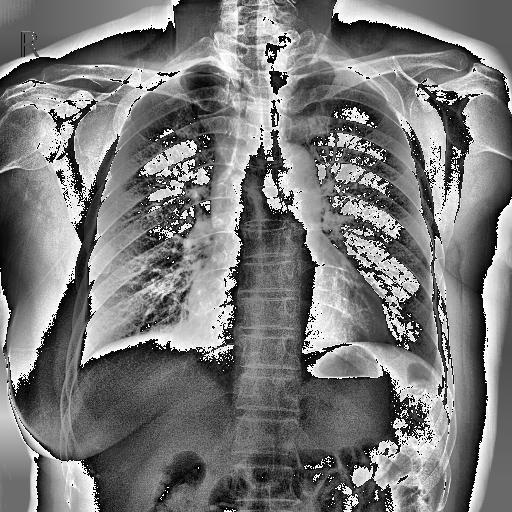0- Aortic enlargement: (211, 148, 320, 234), (257, 139, 322, 224), (270, 144, 322, 210)
11- Pleural thickening: (358, 73, 388, 99)
3- Cardiomegaly: (182, 274, 388, 342), (182, 298, 390, 360)
